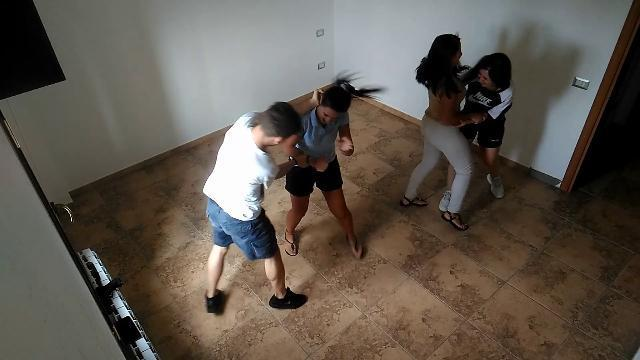violence: (199, 80, 365, 316), (397, 33, 515, 234)
